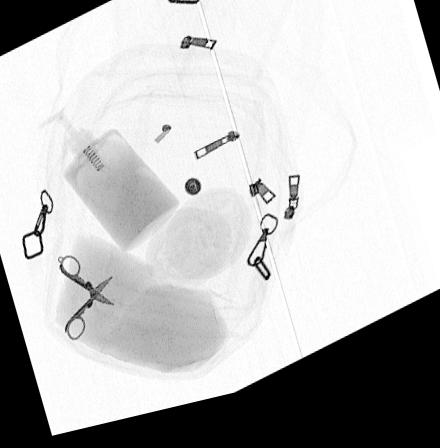Scissors: (57, 256, 115, 344)
